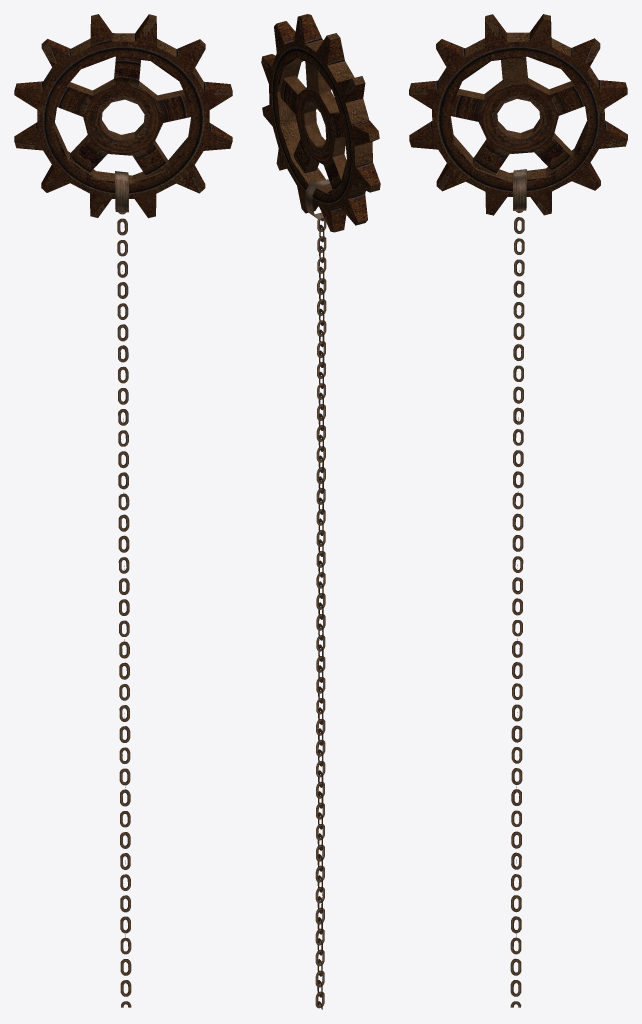
Rendered from gear_club1_5m.fbx.
3 renders of one model, left to right at view 1: azimuth 90°, elevation 25°; view 2: azimuth 210°, elevation 25°; view 3: azimuth 270°, elevation 25°, orthographic.
Visible parts, largest first — view 1: mesh_1, mesh_0; view 2: mesh_1, mesh_0; view 3: mesh_1, mesh_0.
Boxes of the visible parts, x1,y1,x2,y2 form: mesh_1: (14, 14, 232, 218); mesh_0: (115, 171, 131, 1007); mesh_1: (261, 14, 380, 232); mesh_0: (305, 179, 330, 1009); mesh_1: (409, 14, 627, 215); mesh_0: (510, 169, 526, 1007).
Size of the model in its own units: 18.44 by 624 by 125.
2 materials, 2 textured.
